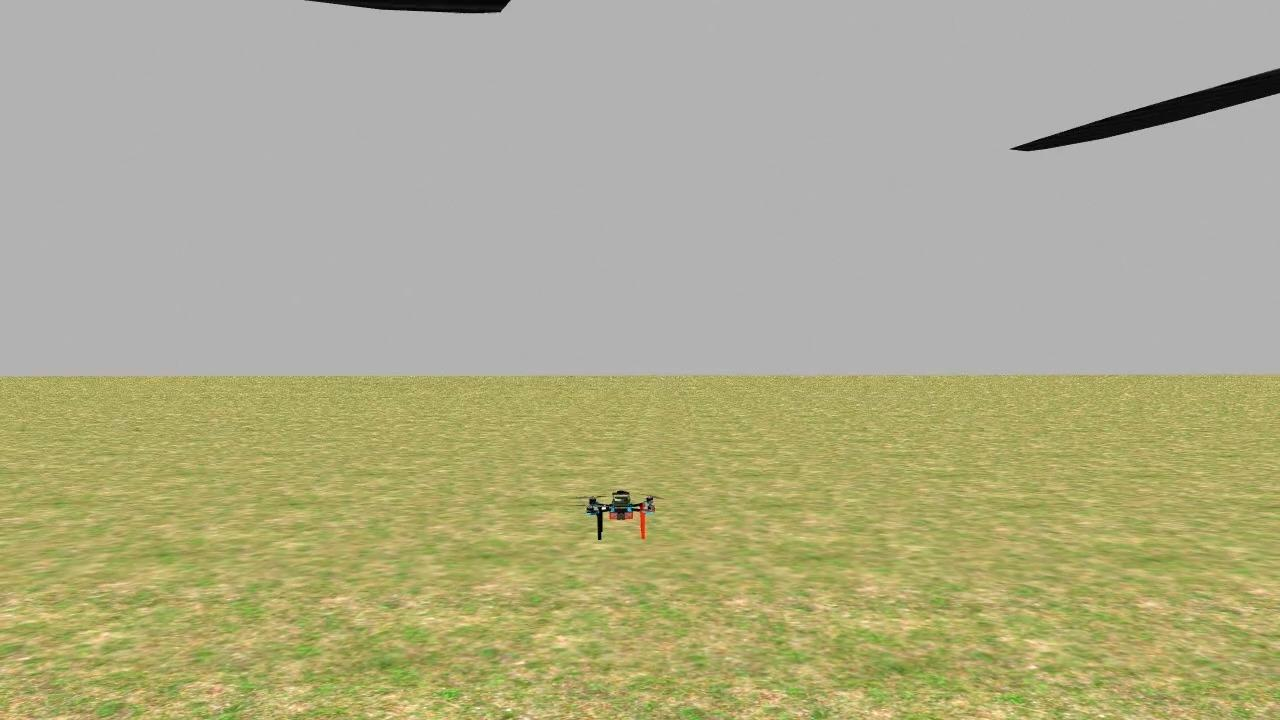UAV: (571, 480, 672, 554)
